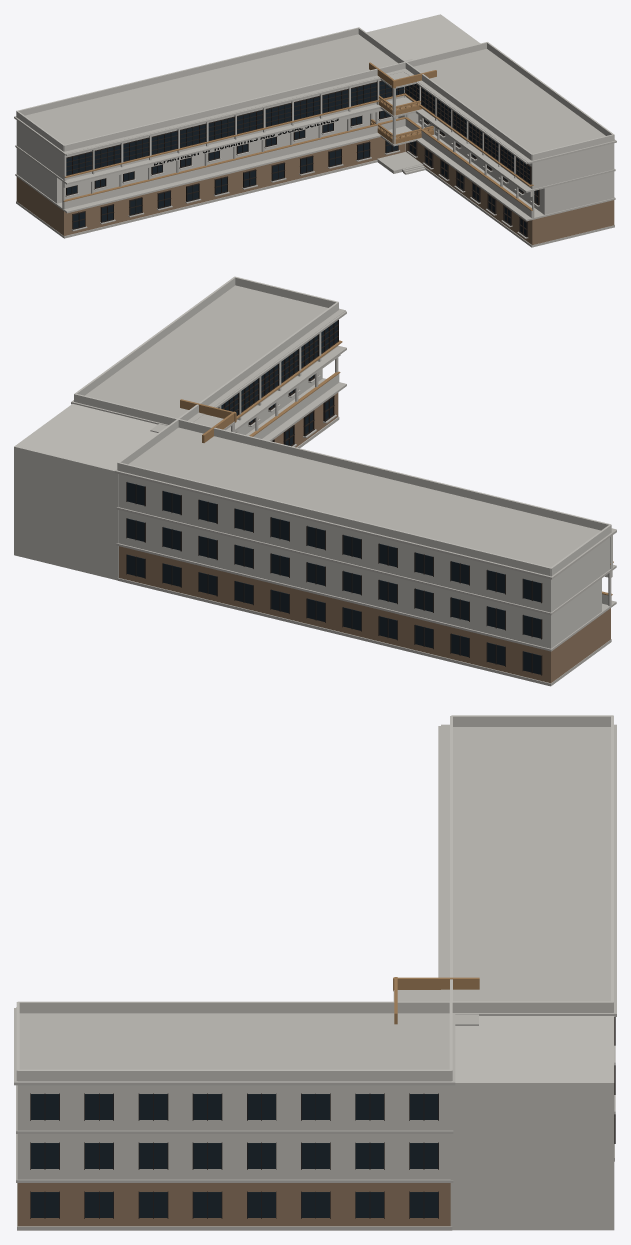
File: iit_kgp_hss_geology_complex.glb
The picture shows the model from 3 angles, top to bottom: view 1: azimuth 30°, elevation 25°; view 2: azimuth 150°, elevation 25°; view 3: azimuth 270°, elevation 25°; orthographic projection. The views are drawn at different scales.
Visible parts, largest first — view 1: IIT Kharagpur HSS and Geology-Geophysics complex; view 2: IIT Kharagpur HSS and Geology-Geophysics complex; view 3: IIT Kharagpur HSS and Geology-Geophysics complex.
Part boxes in pixels (left/top/right/bottom): IIT Kharagpur HSS and Geology-Geophysics complex: left=14, top=14, right=616, bottom=247; IIT Kharagpur HSS and Geology-Geophysics complex: left=14, top=276, right=616, bottom=686; IIT Kharagpur HSS and Geology-Geophysics complex: left=14, top=715, right=616, bottom=1230.
Bounding box in the file's own units: 62.55 × 13.02 × 44.55.
